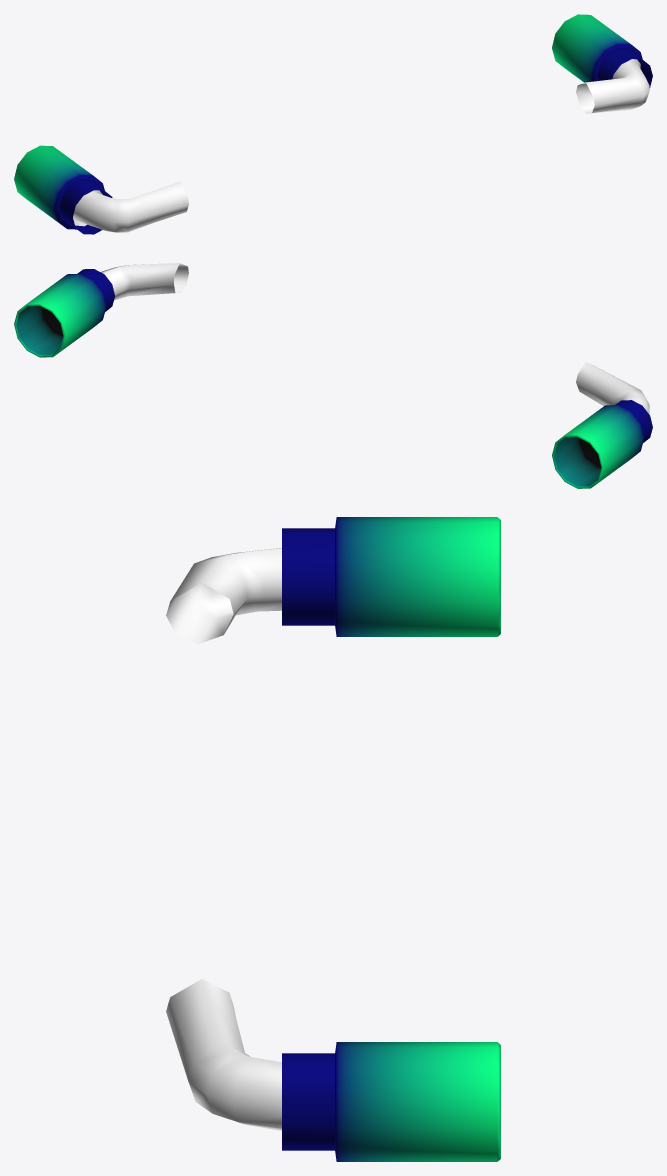
The model's file is Car_Mini_CountrymanJCW_2017_Exhausts_SetFK_AltA.fbx.
3 renders of one model, top to bottom at view 1: azimuth 30°, elevation 25°; view 2: azimuth 150°, elevation 25°; view 3: azimuth 270°, elevation 25°, orthographic. The views are drawn at different scales.
Visible parts, largest first — view 1: Exhausts 6; view 2: Exhausts 6; view 3: Exhausts 6.
Boxes of the visible parts, x1=… form: Exhausts 6: x1=14, y1=14, x2=652, y2=234; Exhausts 6: x1=14, y1=263, x2=652, y2=488; Exhausts 6: x1=166, y1=517, x2=500, y2=1161.
Size of the model in its own units: 1.16 by 0.1068 by 0.2858.
